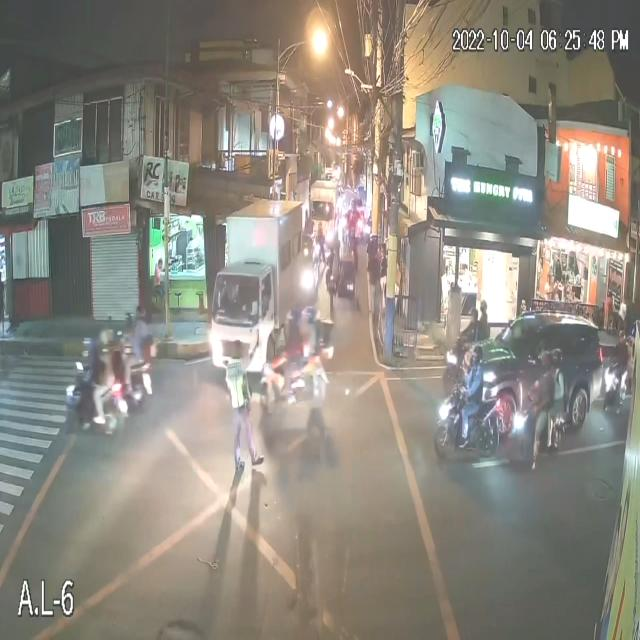Full-Faced: (546, 346, 562, 372), (536, 350, 550, 376), (469, 343, 484, 366)
